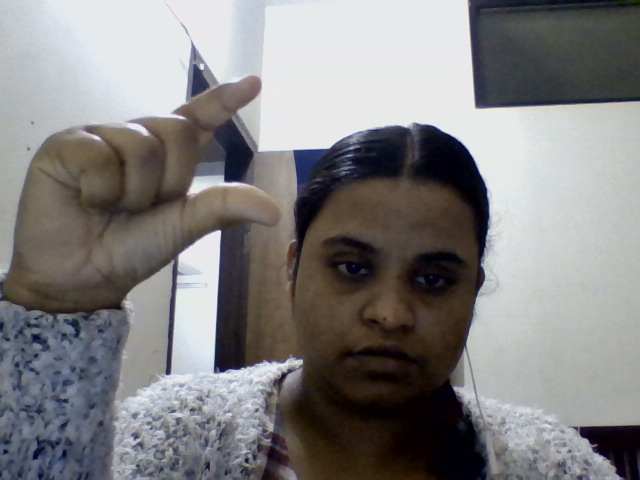No: (9, 49, 328, 304)
